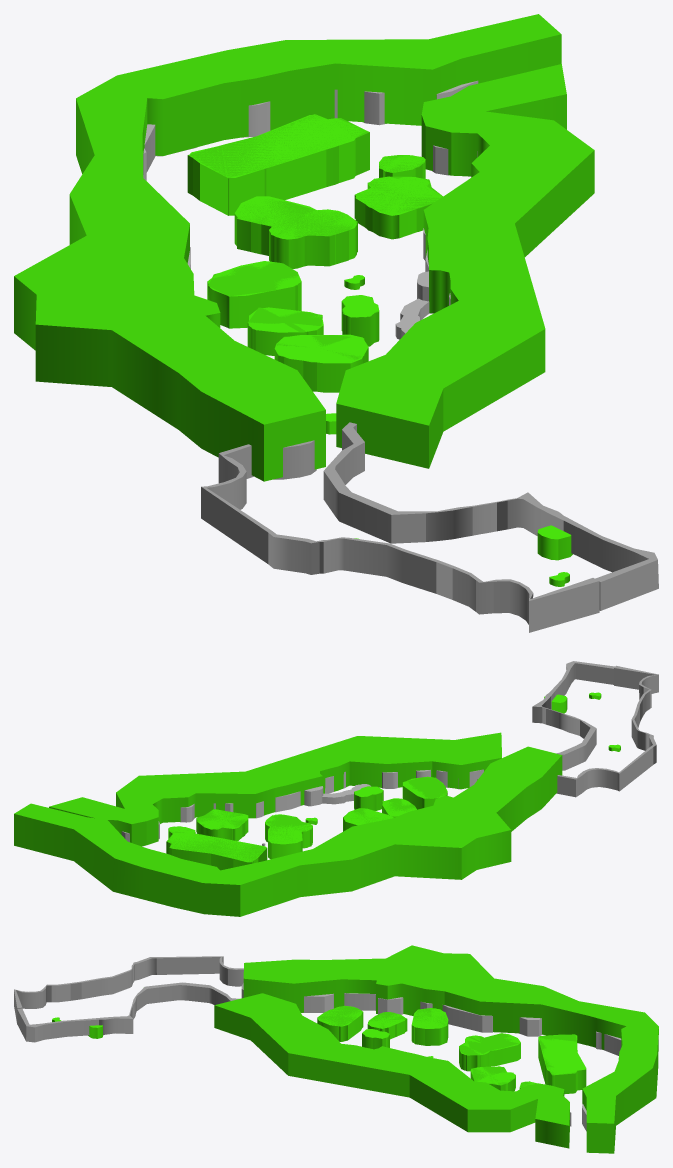
Rendered from colliders.fbx.
The picture shows the model from 3 angles, top to bottom: view 1: azimuth 30°, elevation 25°; view 2: azimuth 150°, elevation 25°; view 3: azimuth 270°, elevation 25°; orthographic projection. The views are drawn at different scales.
Visible parts, largest first — view 1: pasted__Collider_02, pasted__Collider_01, Collider_14, Collider_13, Collider_04, pasted__Collider_05, pasted__Collider_04, Collider_05, Collider_03, Collider_08, Collider_06, Collider_01 (+7 smaller); view 2: pasted__Collider_02, pasted__Collider_01, Collider_14, Collider_13, Collider_04, pasted__Collider_04, Collider_05, Collider_02, Collider_03, Collider_12, pasted__Collider_05, pasted__Collider_03 (+5 smaller); view 3: pasted__Collider_02, pasted__Collider_01, Collider_14, Collider_13, Collider_01, Collider_04, Collider_05, Collider_06, pasted__Collider_04, Collider_08, pasted__Collider_05, pasted__Collider_08 (+5 smaller).
Part boxes in pixels (bbox=[...]): pasted__Collider_02: bbox=[14, 14, 561, 481]; pasted__Collider_01: bbox=[336, 64, 594, 468]; Collider_14: bbox=[201, 440, 599, 632]; Collider_13: bbox=[323, 422, 658, 610]; Collider_04: bbox=[189, 115, 366, 215]; pasted__Collider_05: bbox=[237, 199, 357, 266]; pasted__Collider_04: bbox=[187, 114, 369, 215]; Collider_05: bbox=[234, 196, 356, 268]; Collider_03: bbox=[355, 176, 442, 239]; Collider_08: bbox=[274, 334, 368, 392]; Collider_06: bbox=[207, 261, 301, 328]; Collider_01: bbox=[143, 80, 478, 268]; pasted__Collider_02: bbox=[14, 746, 562, 916]; pasted__Collider_01: bbox=[49, 732, 501, 846]; Collider_14: bbox=[556, 665, 658, 797]; Collider_13: bbox=[532, 661, 614, 770]; Collider_04: bbox=[168, 832, 266, 867]; pasted__Collider_04: bbox=[166, 831, 267, 870]; Collider_05: bbox=[265, 814, 312, 859]; Collider_02: bbox=[121, 786, 323, 846]; Collider_03: bbox=[197, 809, 248, 840]; Collider_12: bbox=[325, 769, 483, 793]; pasted__Collider_05: bbox=[267, 814, 312, 851]; pasted__Collider_03: bbox=[196, 809, 246, 840]; pasted__Collider_02: bbox=[243, 945, 658, 1153]; pasted__Collider_01: bbox=[214, 993, 569, 1148]; Collider_14: bbox=[14, 956, 243, 1024]; Collider_13: bbox=[17, 982, 239, 1042]; Collider_01: bbox=[303, 993, 621, 1131]; Collider_04: bbox=[538, 1034, 586, 1092]; Collider_05: bbox=[460, 1033, 520, 1070]; Collider_06: bbox=[411, 1008, 448, 1045]; pasted__Collider_04: bbox=[539, 1034, 586, 1094]; Collider_08: bbox=[317, 1006, 362, 1041]; pasted__Collider_05: bbox=[459, 1033, 518, 1071]; pasted__Collider_08: bbox=[317, 1005, 363, 1041].
Bounding box in the file's own units: 189 × 15.46 × 283.
